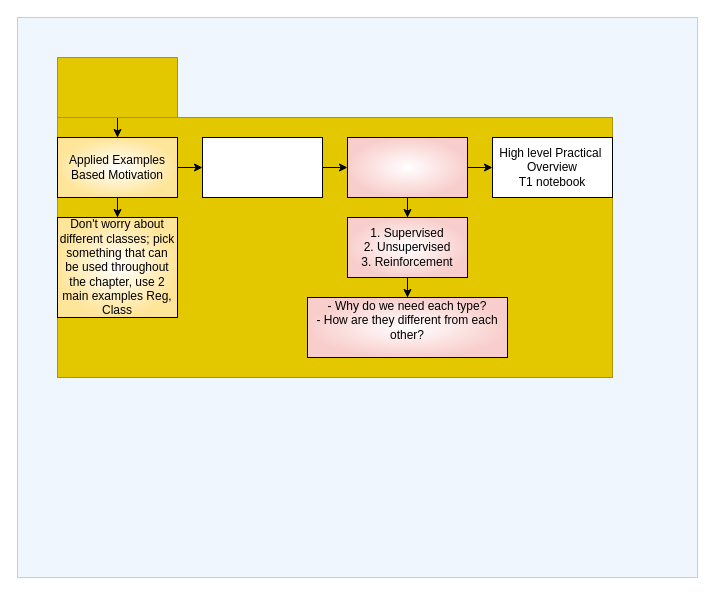
The diagram is 715 pixels wide and 595 high, and some of its shapes have lost their labels. Here are the shapes that lost their labels. From the top down, the box of each, then its label:
(56, 56, 178, 118): Introduction
(202, 136, 322, 198): How does it work?
(346, 136, 468, 198): Different Types
